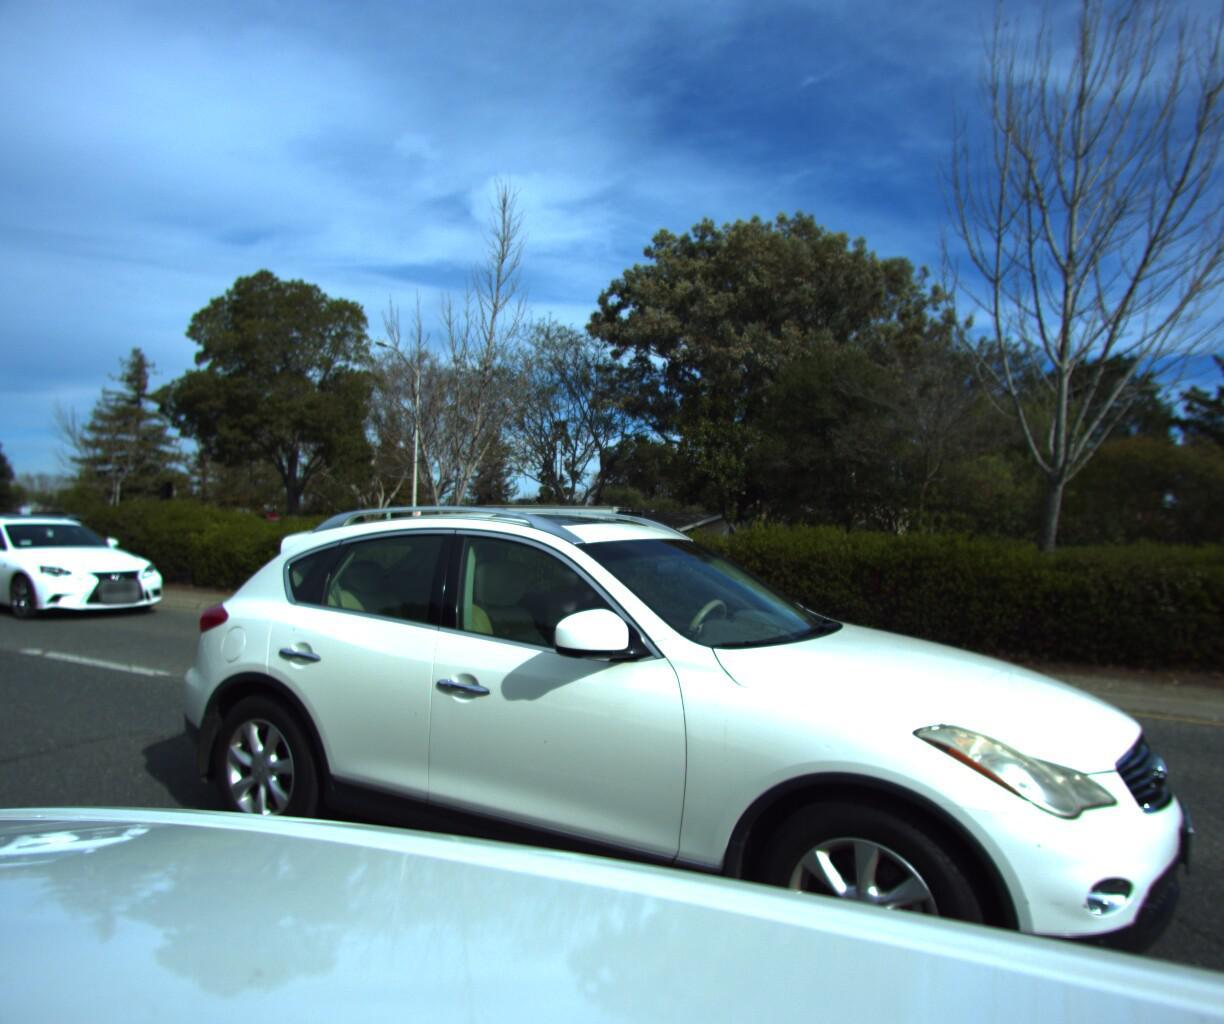car: (152, 477, 1206, 1024), (0, 509, 184, 631), (0, 506, 117, 556)
truck: (422, 497, 649, 576)
